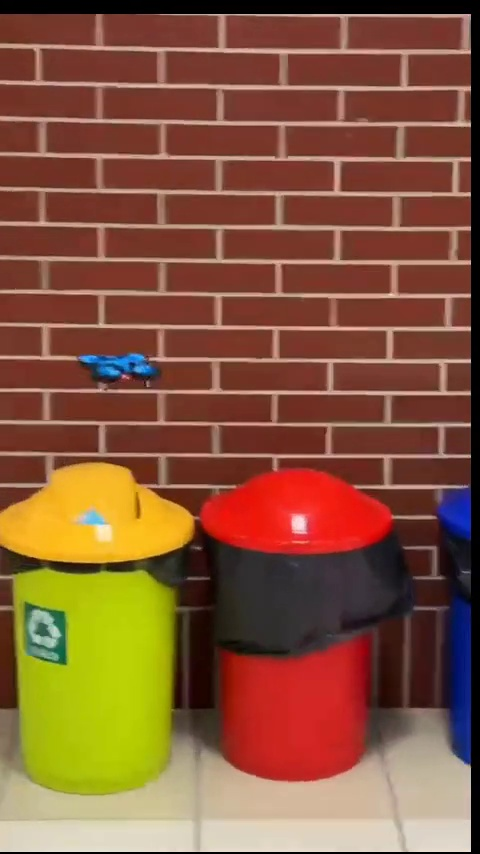drone: (72, 352, 162, 388)
